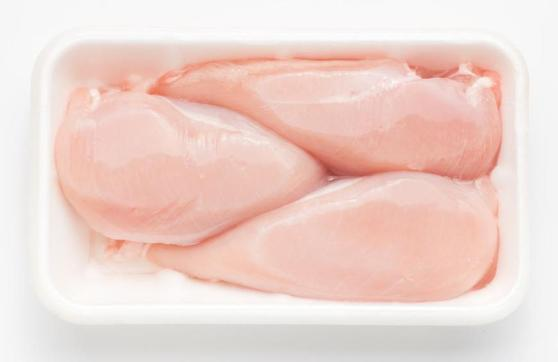chicken_fillet: (52, 84, 329, 255), (168, 166, 511, 302), (158, 50, 508, 180)
